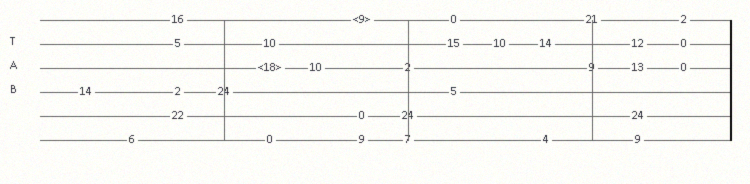0: (267, 134, 277, 146), (359, 110, 369, 122), (451, 14, 461, 26), (681, 62, 691, 74), (681, 38, 691, 50)
10: (264, 38, 280, 50), (310, 62, 326, 74), (494, 38, 510, 50)
12: (632, 38, 648, 50)
13: (632, 62, 648, 74)
14: (80, 86, 96, 98), (540, 38, 556, 50)
15: (448, 38, 464, 50)
16: (172, 14, 188, 26)
2: (175, 86, 185, 98), (405, 62, 415, 74), (681, 14, 691, 26)
21: (586, 14, 602, 26)
22: (172, 110, 188, 122)
24: (218, 86, 234, 98), (402, 110, 418, 122), (632, 110, 648, 122)
4: (543, 134, 553, 146)
5: (175, 38, 185, 50), (451, 86, 461, 98)
6: (129, 134, 139, 146)
7: (405, 134, 415, 146)
9: (359, 134, 369, 146), (589, 62, 599, 74), (635, 134, 645, 146)
harmonic: (258, 62, 286, 74), (353, 14, 375, 26)
